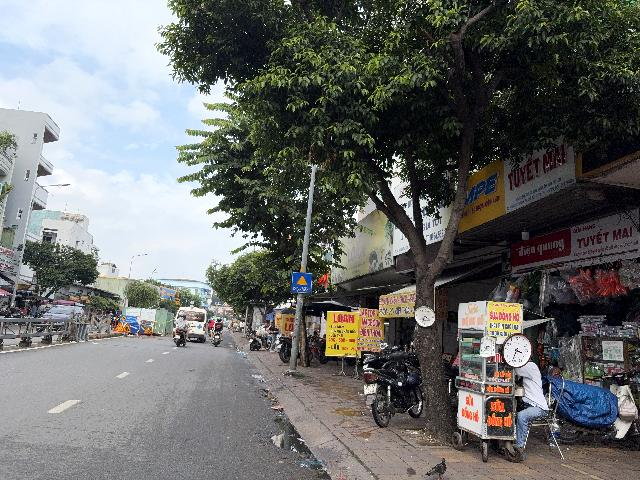khu-vuc-cho-phia-truoc: (291, 272, 312, 293)
